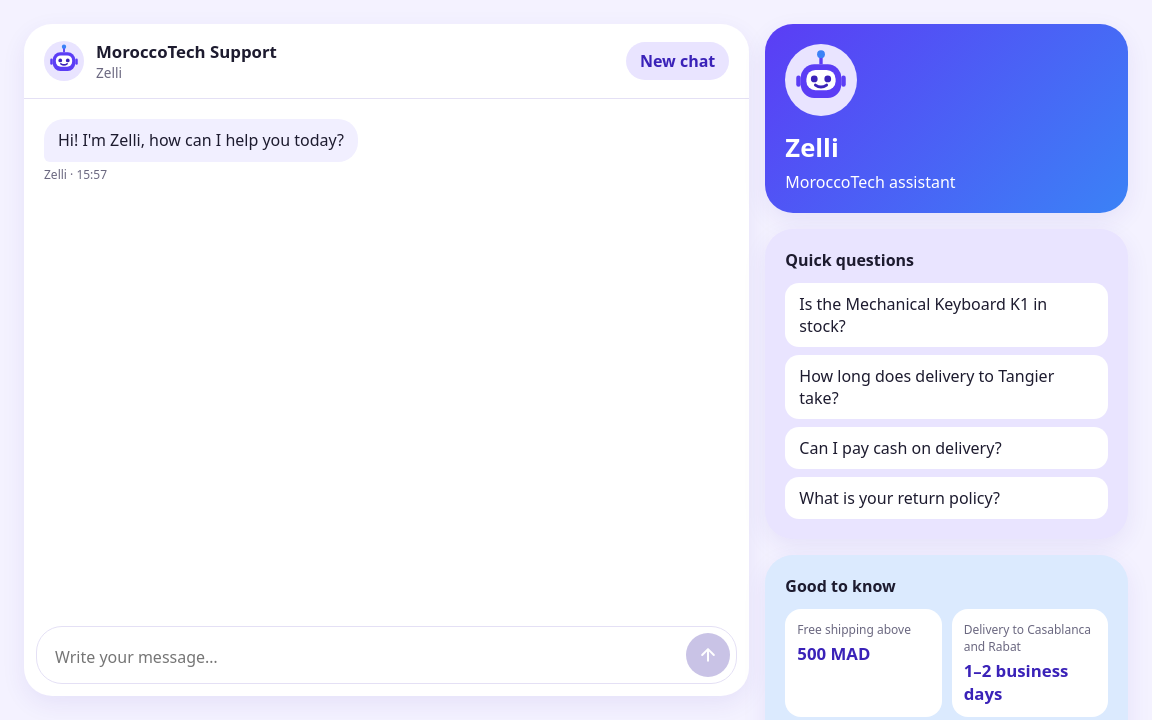
Test: App › handoff shows the reply, the system line and the card
This screenshot has width=1152, height=720.
In the text box labelled "your message": (365, 657) left=53, top=637, right=676, bottom=677, type "Can you fix my TV?"
Then press Enter
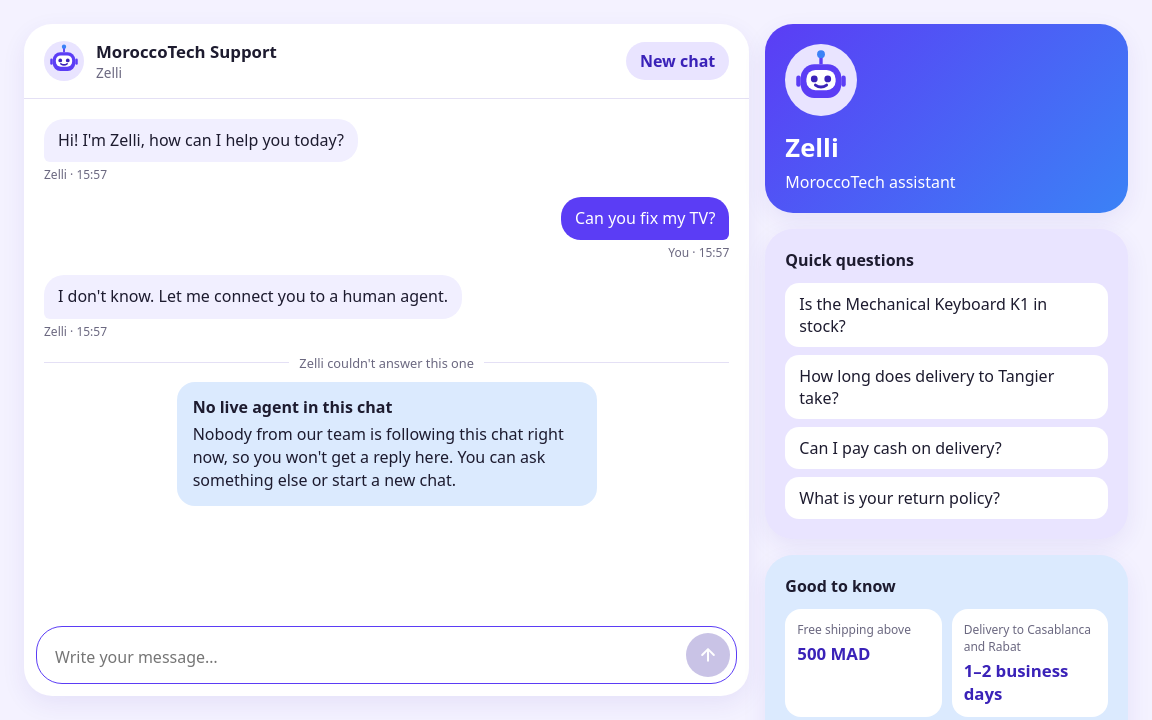
Now the text "I don't know. Let me connect you to a human agent." is shown, box left=44, top=275, right=462, bottom=319
Now the text "Zelli couldn't answer this one" is shown, box left=299, top=354, right=474, bottom=372
Now the text "No live agent in this chat" is shown, box left=193, top=396, right=392, bottom=418
